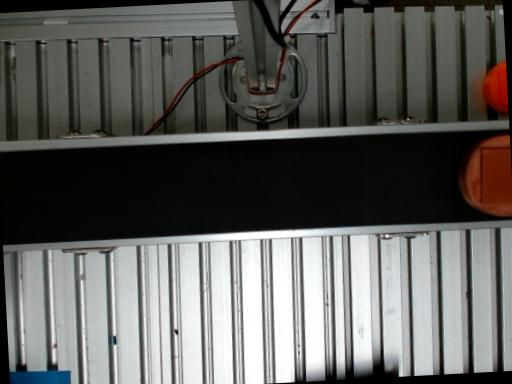Brown_Waper: (458, 134, 512, 216)
